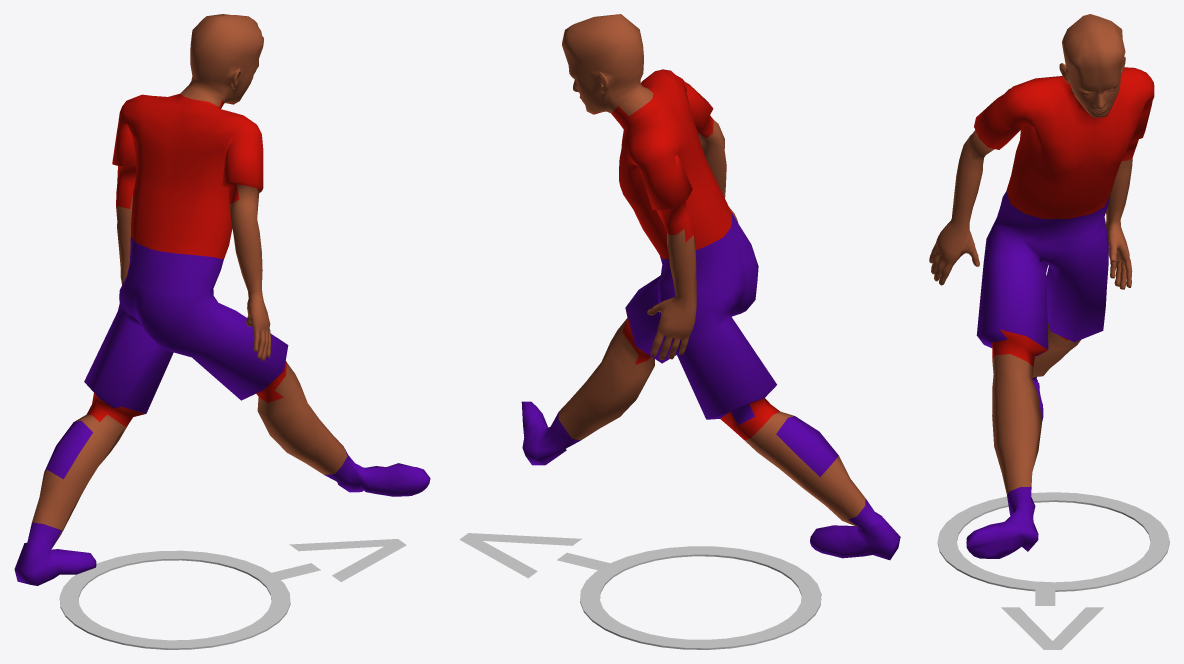
File: player_000028.obj
3 renders of one model, left to right at view 1: azimuth 30°, elevation 25°; view 2: azimuth 150°, elevation 25°; view 3: azimuth 270°, elevation 25°, orthographic. The views are drawn at different scales.
Visible parts, largest first — view 1: soccerplayer.002_mesh.003, Circle, Text.001_Mesh.001; view 2: soccerplayer.002_mesh.003, Circle, Text.001_Mesh.001; view 3: soccerplayer.002_mesh.003, Circle, Text.001_Mesh.001.
Boxes of the visible parts, bbox=[...] form: soccerplayer.002_mesh.003: bbox=[14, 14, 430, 585]; Circle: bbox=[59, 550, 290, 649]; Text.001_Mesh.001: bbox=[267, 539, 406, 581]; soccerplayer.002_mesh.003: bbox=[521, 14, 900, 560]; Circle: bbox=[580, 546, 821, 649]; Text.001_Mesh.001: bbox=[459, 533, 613, 578]; soccerplayer.002_mesh.003: bbox=[929, 14, 1154, 558]; Circle: bbox=[937, 492, 1169, 591]; Text.001_Mesh.001: bbox=[1001, 584, 1103, 649].
Bounding box in the file's own units: 2.17 × 2.88 × 1.13.
